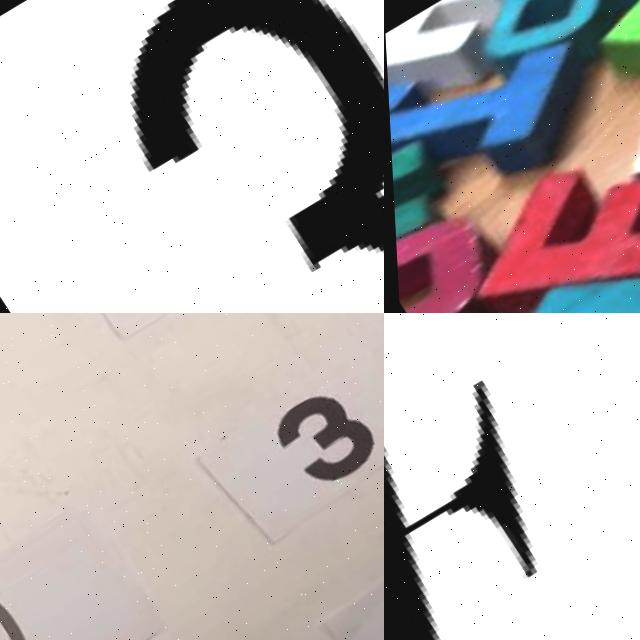3: (12, 0, 384, 313), (249, 360, 384, 500)
E: (407, 57, 640, 313)
J: (479, 150, 640, 313)
N: (384, 30, 456, 206)
Z: (548, 0, 640, 287)
